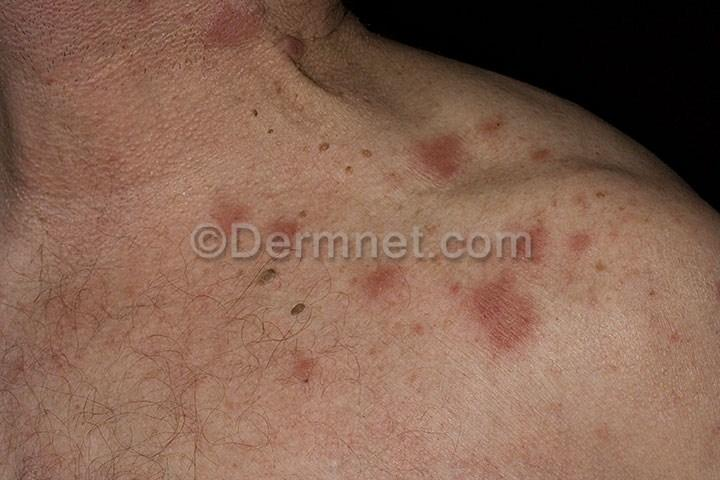Eczema: (455, 180, 599, 380), (178, 145, 340, 288), (221, 310, 369, 422), (406, 65, 529, 191), (610, 235, 707, 386), (345, 178, 448, 298), (183, 0, 309, 81)
